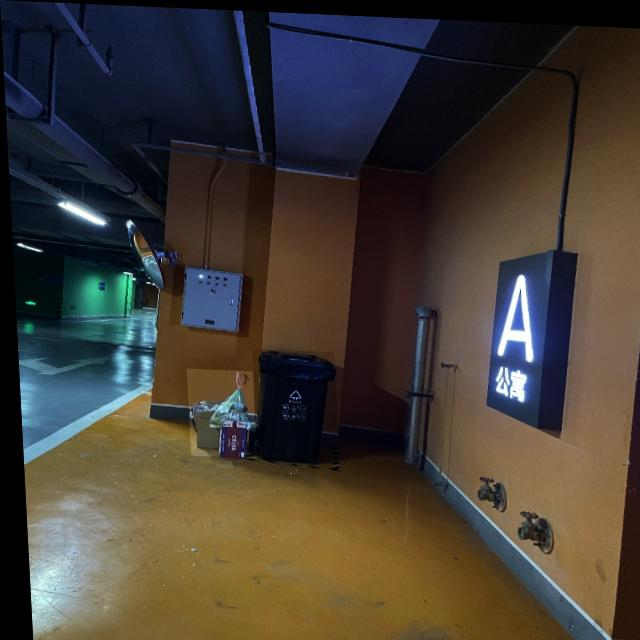garbage: (183, 367, 252, 456)
garbage_bin: (249, 347, 335, 462)
